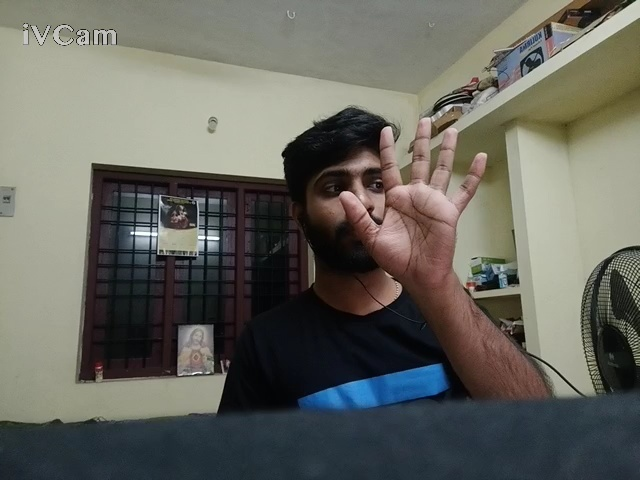Hello: (323, 107, 510, 313)
